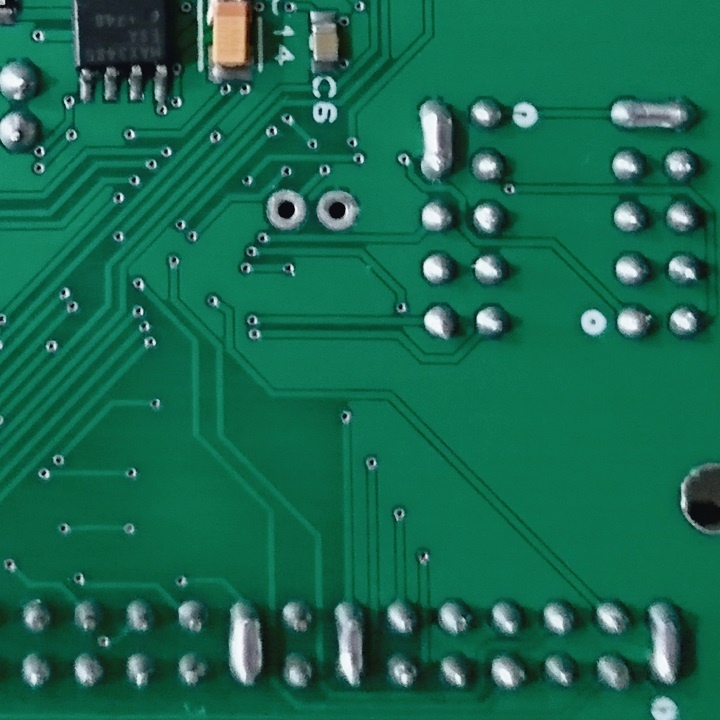F: (313, 181, 361, 238), (262, 187, 309, 234)
P: (643, 595, 690, 691), (413, 93, 459, 185), (224, 595, 268, 690), (606, 93, 703, 135), (329, 597, 370, 691)
